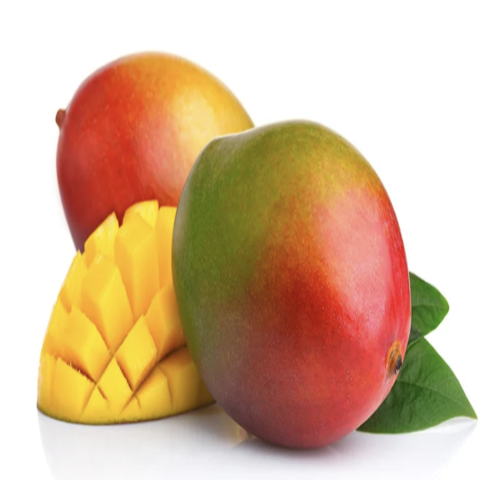mango: (160, 112, 430, 457), (33, 38, 285, 313)
